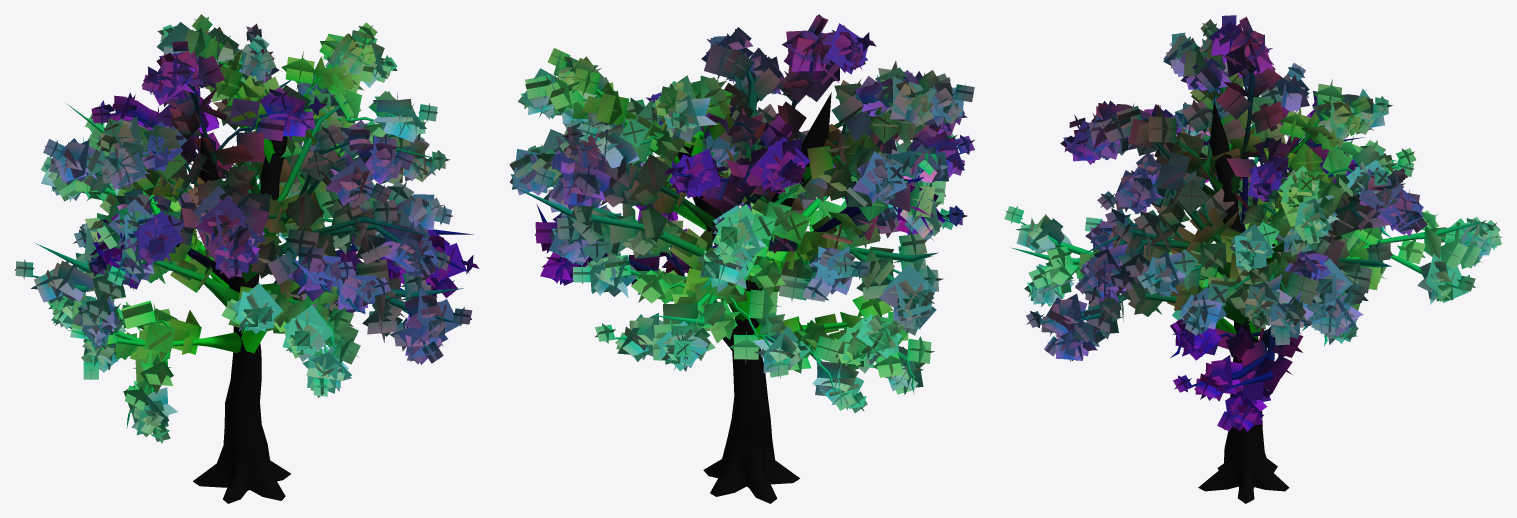
Rendered from oak2.fbx.
The picture shows the model from 3 angles, left to right: view 1: azimuth 30°, elevation 25°; view 2: azimuth 150°, elevation 25°; view 3: azimuth 270°, elevation 25°; orthographic projection. The views are drawn at different scales.
Parts seen in each view (by area): view 1: _1, _0; view 2: _1, _0; view 3: _1, _0.
Part boxes in pixels (left/top/right/bottom): _1: left=14, top=14, right=479, bottom=443; _0: left=33, top=45, right=473, bottom=503; _1: left=509, top=14, right=974, bottom=413; _0: left=513, top=31, right=960, bottom=503; _1: left=1004, top=15, right=1501, bottom=432; _0: left=1011, top=34, right=1487, bottom=503.
Bounding box in the file's own units: 986 × 1041 × 1077.
